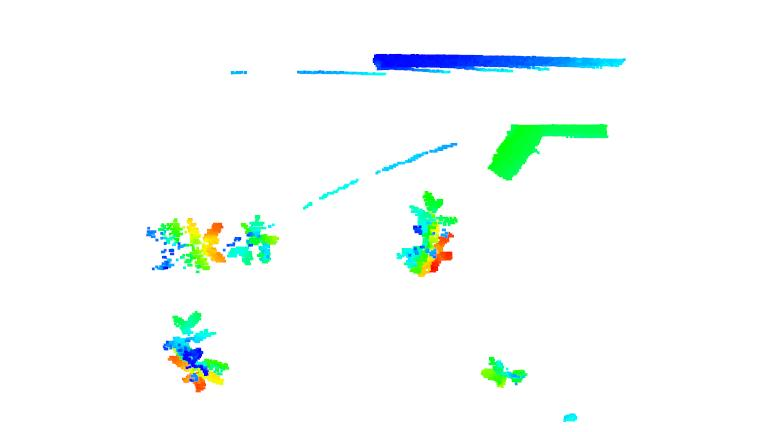chickpea: (394, 192, 455, 277), (162, 314, 226, 389), (146, 218, 225, 272), (229, 216, 275, 264), (481, 357, 527, 389)
